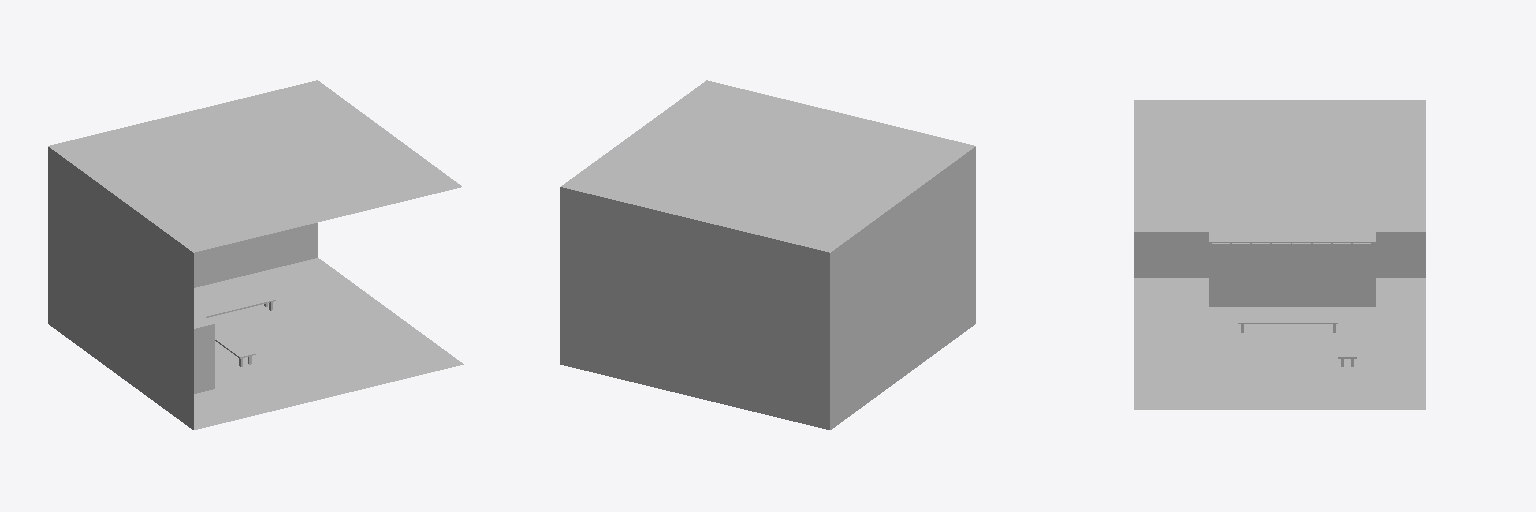
The model's file is Lobby2.obj.
3 renders of one model, left to right at view 1: azimuth 30°, elevation 25°; view 2: azimuth 150°, elevation 25°; view 3: azimuth 270°, elevation 25°, orthographic.
Parts seen in each view (by area): view 1: lobby:Plane_001, lobby:Cube_Cube_001, lobby:banca_001_Cube_004, lobby:banca_Cube; view 2: lobby:Plane_001; view 3: lobby:Plane_001, lobby:casilleros_Cube_003, lobby:Cube_Cube_001, lobby:banca_Cube, lobby:banca_001_Cube_004.
Part boxes in pixels (x1,y1,x2,y2): lobby:Plane_001: (48, 80, 463, 429); lobby:Cube_Cube_001: (194, 309, 214, 393); lobby:banca_001_Cube_004: (197, 293, 275, 317); lobby:banca_Cube: (210, 320, 255, 366); lobby:Plane_001: (560, 80, 975, 429); lobby:Plane_001: (1134, 100, 1425, 409); lobby:casilleros_Cube_003: (1212, 243, 1370, 304); lobby:Cube_Cube_001: (1209, 232, 1375, 306); lobby:banca_Cube: (1238, 315, 1337, 332); lobby:banca_001_Cube_004: (1338, 315, 1356, 366).
Bounding box in the file's own units: 12.74 × 8.06 × 11.89.